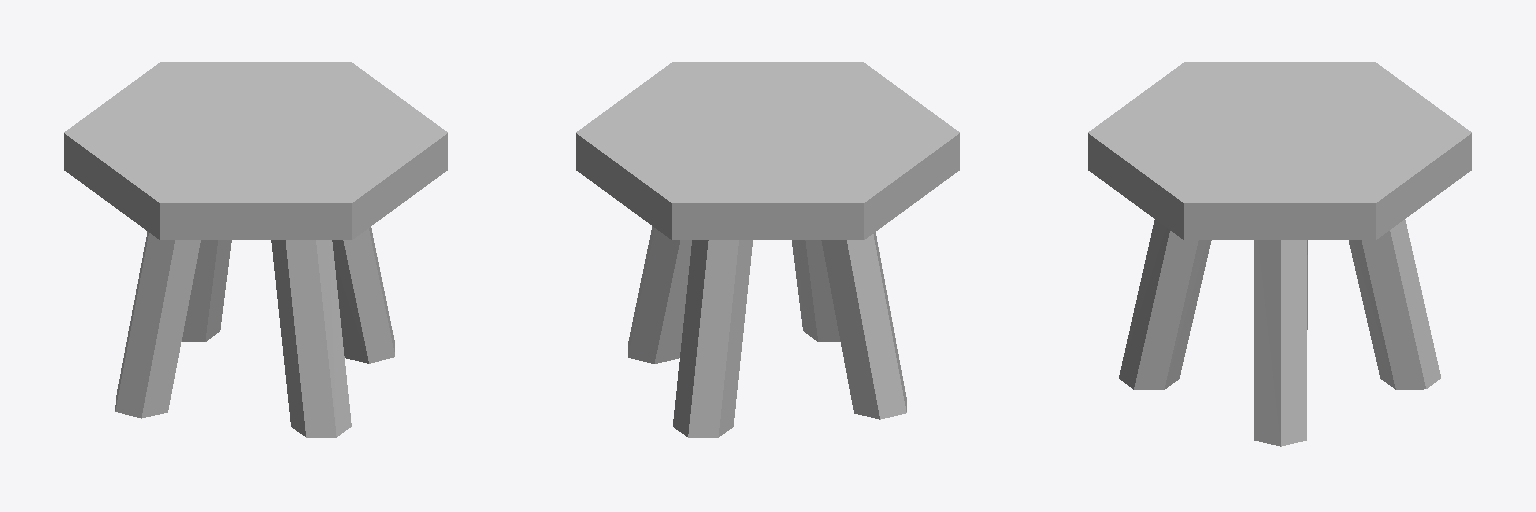
Rendered from stool.obj.
The picture shows the model from 3 angles: view 1: azimuth 30°, elevation 25°; view 2: azimuth 150°, elevation 25°; view 3: azimuth 270°, elevation 25°; orthographic projection.
Visible parts, largest first — view 1: stool_Cylinder; view 2: stool_Cylinder; view 3: stool_Cylinder.
Boxes of the visible parts, x1=… form: stool_Cylinder: x1=64, y1=62, x2=447, y2=437; stool_Cylinder: x1=576, y1=62, x2=959, y2=437; stool_Cylinder: x1=1088, y1=62, x2=1471, y2=446.
Bounding box in the file's own units: 1.33 × 1.08 × 1.54.